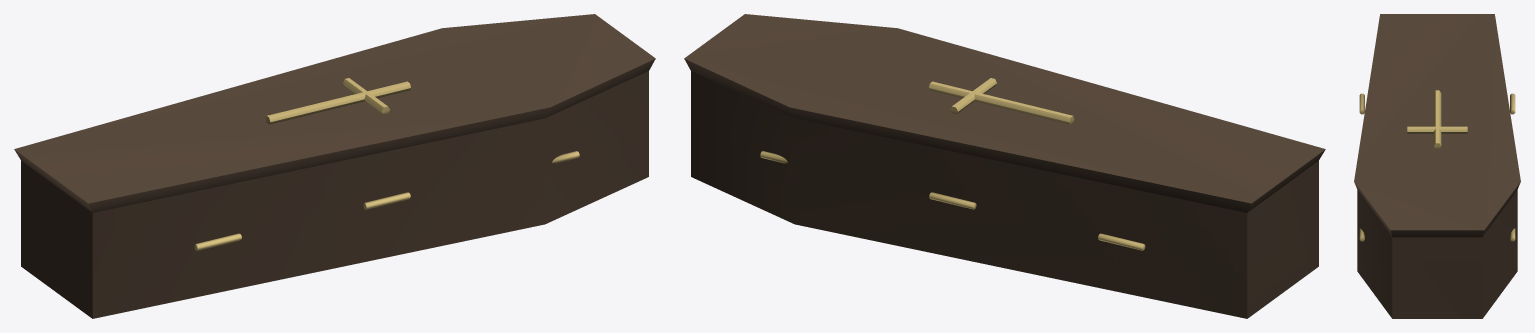
File: coffin.glb
The picture shows the model from 3 angles, left to right: view 1: azimuth 30°, elevation 25°; view 2: azimuth 150°, elevation 25°; view 3: azimuth 270°, elevation 25°; orthographic projection. The views are drawn at different scales.
Visible parts, largest first — view 1: boat_coffin, boat_brass3; view 2: boat_coffin, boat_brass3; view 3: boat_coffin, boat_brass3.
Part boxes in pixels (x1=…): boat_coffin: x1=14, y1=14, x2=655, y2=318; boat_brass3: x1=194, y1=78, x2=579, y2=250; boat_coffin: x1=684, y1=14, x2=1325, y2=318; boat_brass3: x1=760, y1=78, x2=1145, y2=250; boat_coffin: x1=1354, y1=14, x2=1520, y2=318; boat_brass3: x1=1359, y1=90, x2=1515, y2=241.
Bounding box in the file's own units: 2.04 × 0.423 × 0.6656.
